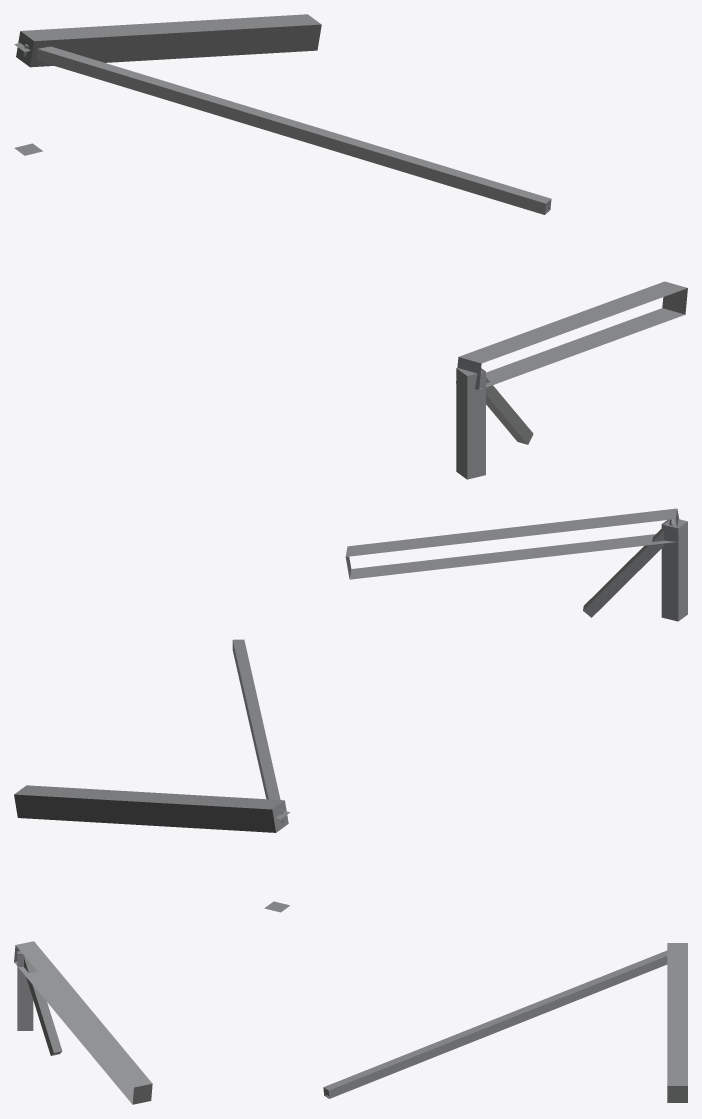
3 views of the same model, one above another, from view 1: azimuth 30°, elevation 25°; view 2: azimuth 150°, elevation 25°; view 3: azimuth 270°, elevation 25° (orthographic). The views are drawn at different scales.
Size of the model in its own units: 0.805 by 0.2971 by 2.12.
